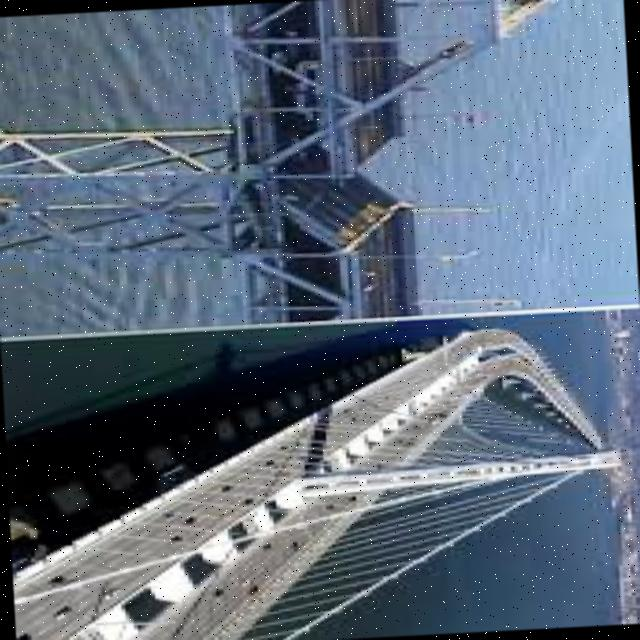bridge collapse: (128, 0, 536, 320)
